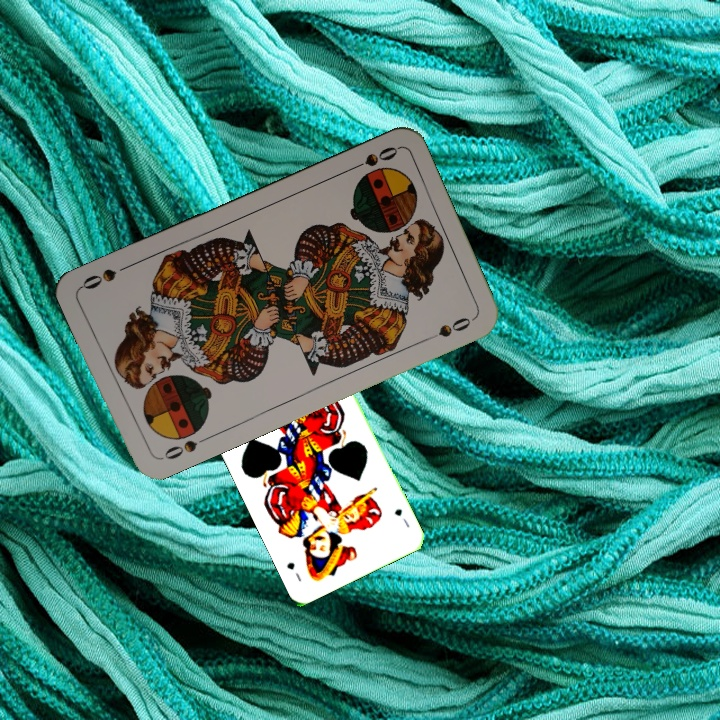GU: (390, 504, 412, 530)
SO: (344, 142, 401, 174), (154, 436, 200, 464)
